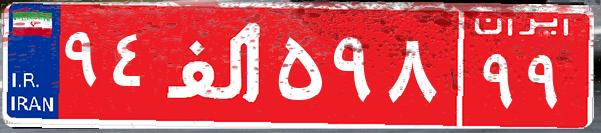4: (110, 28, 158, 105)
5: (273, 28, 330, 110)
8: (385, 28, 445, 110)
9: (330, 28, 385, 110), (57, 26, 110, 107), (475, 38, 525, 113), (525, 38, 570, 115)
الف: (158, 15, 273, 115)
